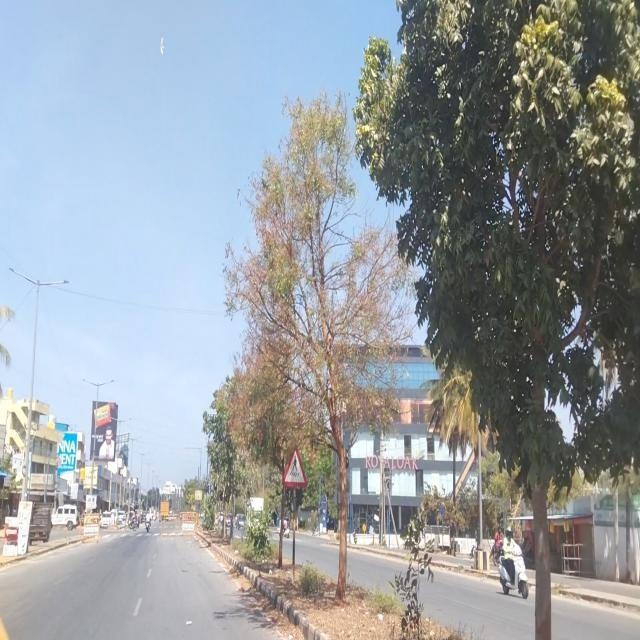bien_nguy_hiem: (282, 443, 308, 488)
